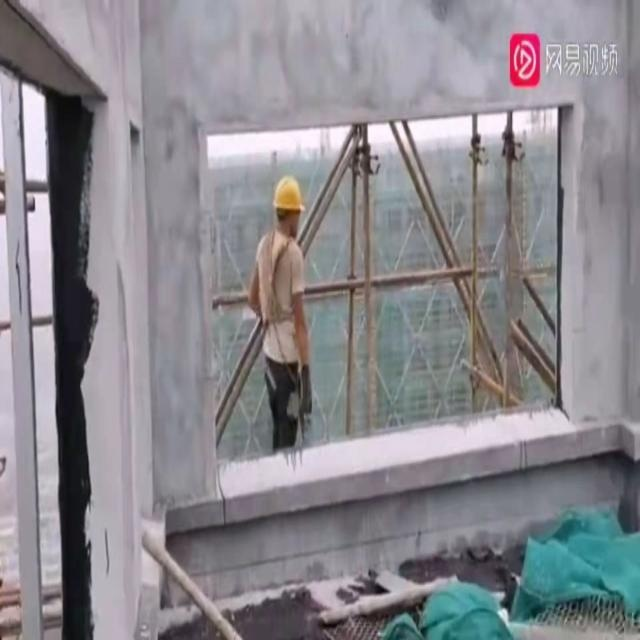Arnes_seguridad: (255, 227, 304, 357)
